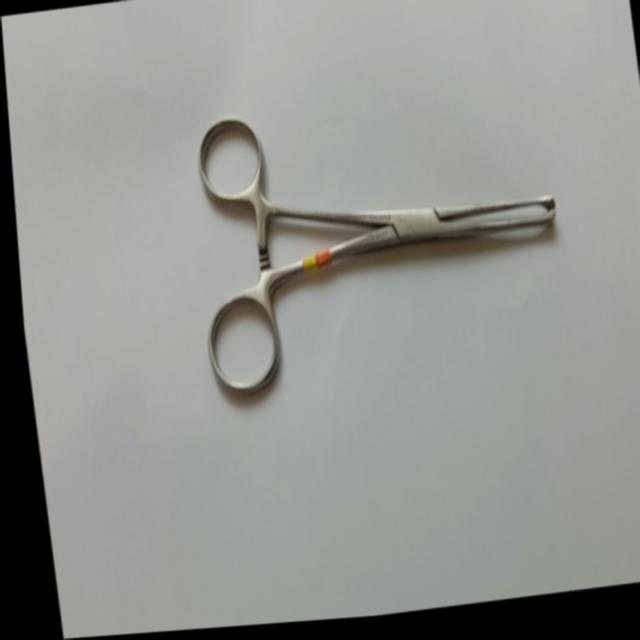AllisForcep: (174, 82, 573, 405)
